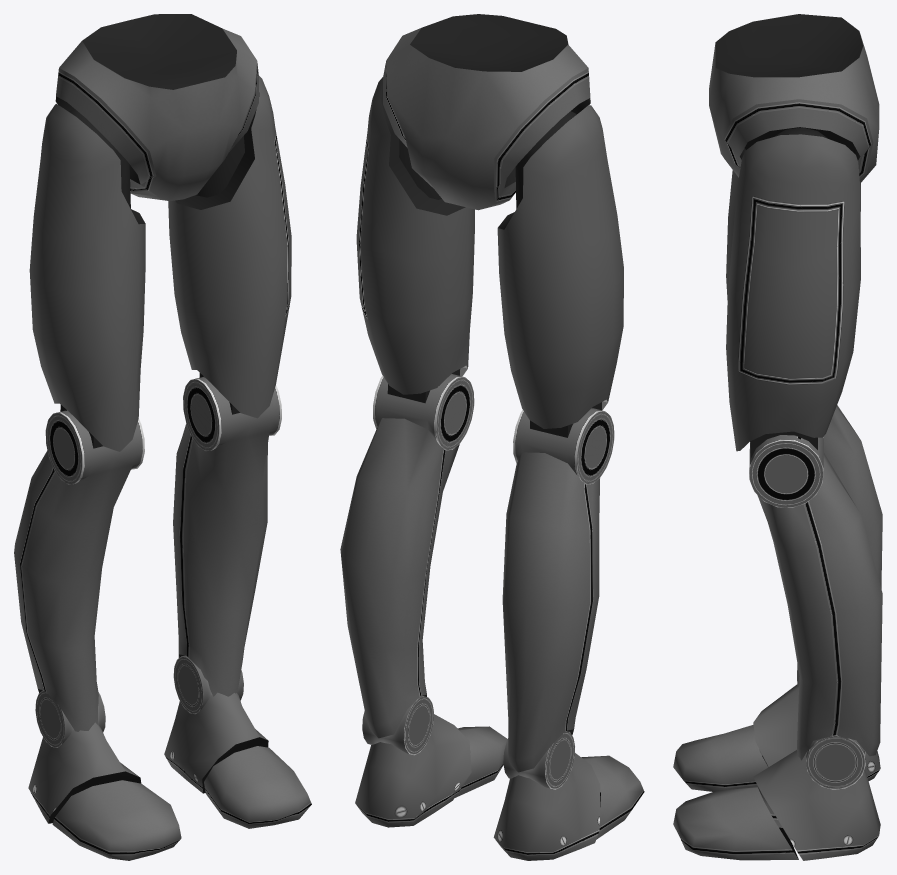
The model's file is legs_s.fbx.
The picture shows the model from 3 angles, left to right: view 1: azimuth 30°, elevation 25°; view 2: azimuth 150°, elevation 25°; view 3: azimuth 270°, elevation 25°; orthographic projection. The views are drawn at different scales.
Parts seen in each view (by area): view 1: LEGS_S; view 2: LEGS_S; view 3: LEGS_S.
Part boxes in pixels (bbox=[...]): LEGS_S: bbox=[14, 14, 311, 860]; LEGS_S: bbox=[340, 14, 644, 860]; LEGS_S: bbox=[673, 14, 882, 860].
Bounding box in the file's own units: 31.81 × 95.06 × 23.64.
